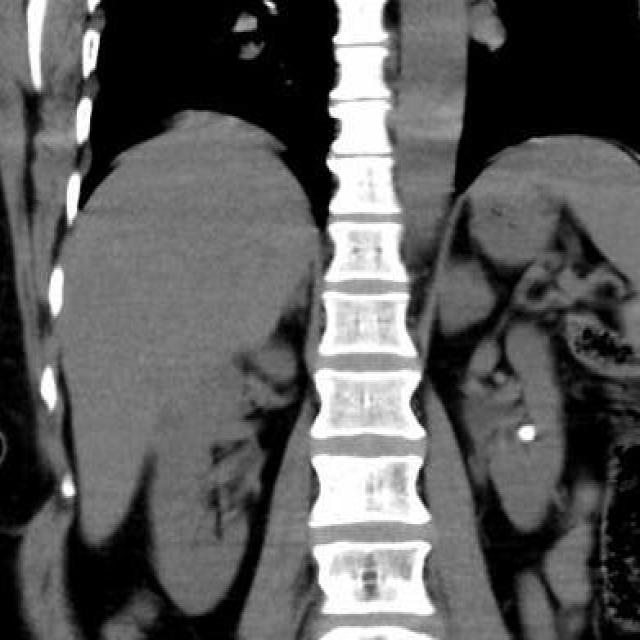Tas_Var: (511, 421, 543, 443)
